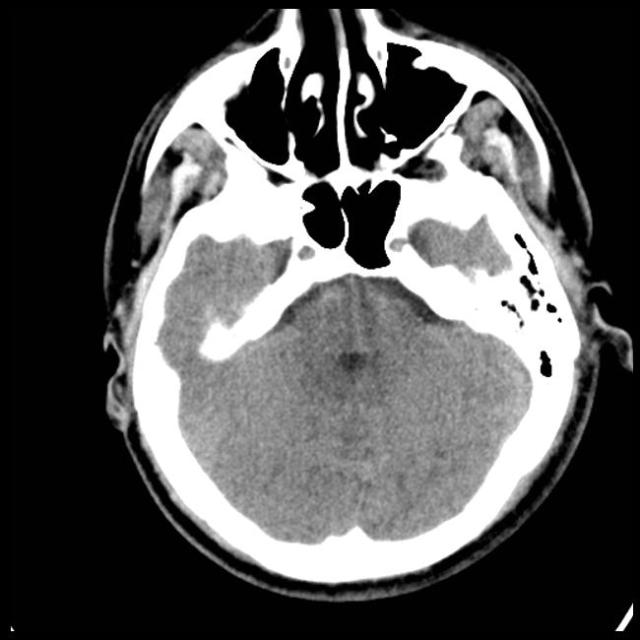lesion: (97, 6, 630, 601)
